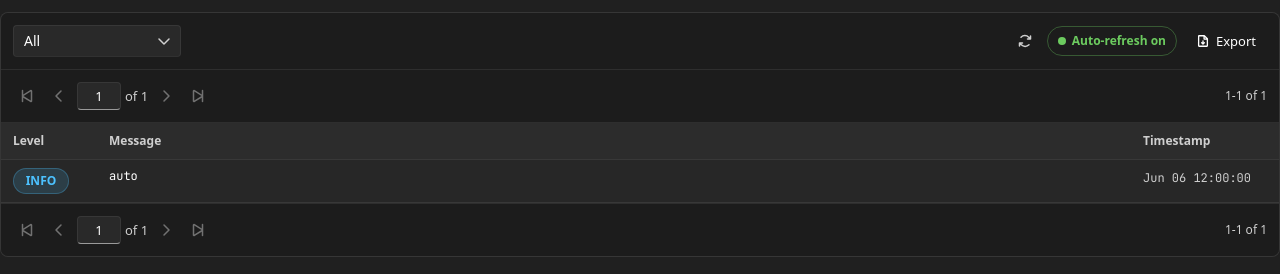
Test: LogViewer › auto-refreshes every 5 seconds while enabled and stops when toggled off
The width and height of the screenshot is (1280, 274).
Expected: the text "auto" is shown, left=109, top=168, right=138, bottom=184
Click the button "Auto-refresh on" at coordinates (1112, 41), box left=1047, top=26, right=1177, bottom=56
Wait 5000 ms
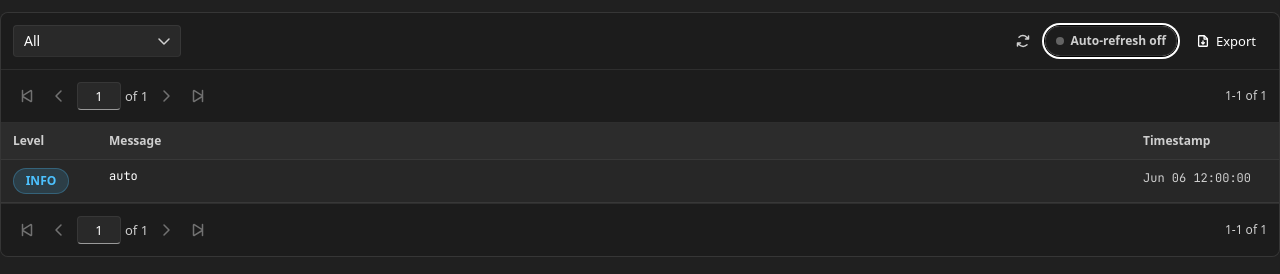
Expected: the button with test id "log-viewer-auto-refresh-status" reads "Auto-refresh off", left=1045, top=26, right=1177, bottom=56
